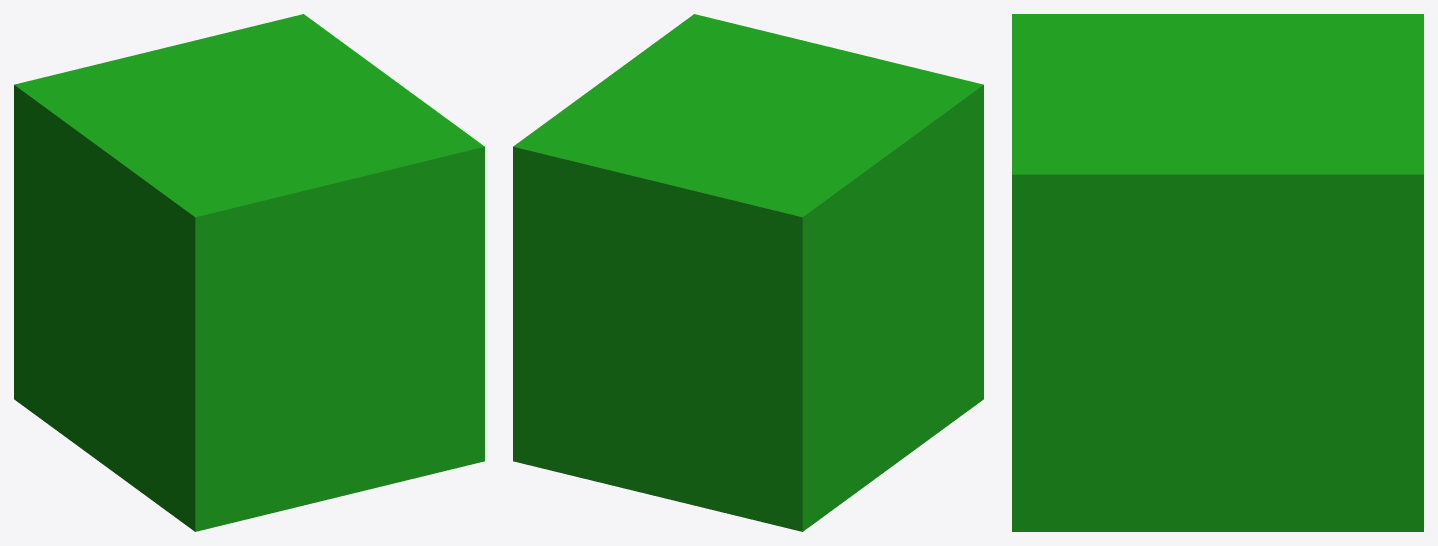
3 renders of one model, left to right at view 1: azimuth 30°, elevation 25°; view 2: azimuth 150°, elevation 25°; view 3: azimuth 270°, elevation 25°, orthographic. The views are drawn at different scales.
Visible parts, largest first — view 1: Box001; view 2: Box001; view 3: Box001.
Boxes of the visible parts, <box> form: Box001: <box>14,14,484,531</box>; Box001: <box>513,14,983,531</box>; Box001: <box>1012,14,1423,531</box>.
Bounding box in the file's own units: 165 × 172 × 179.
